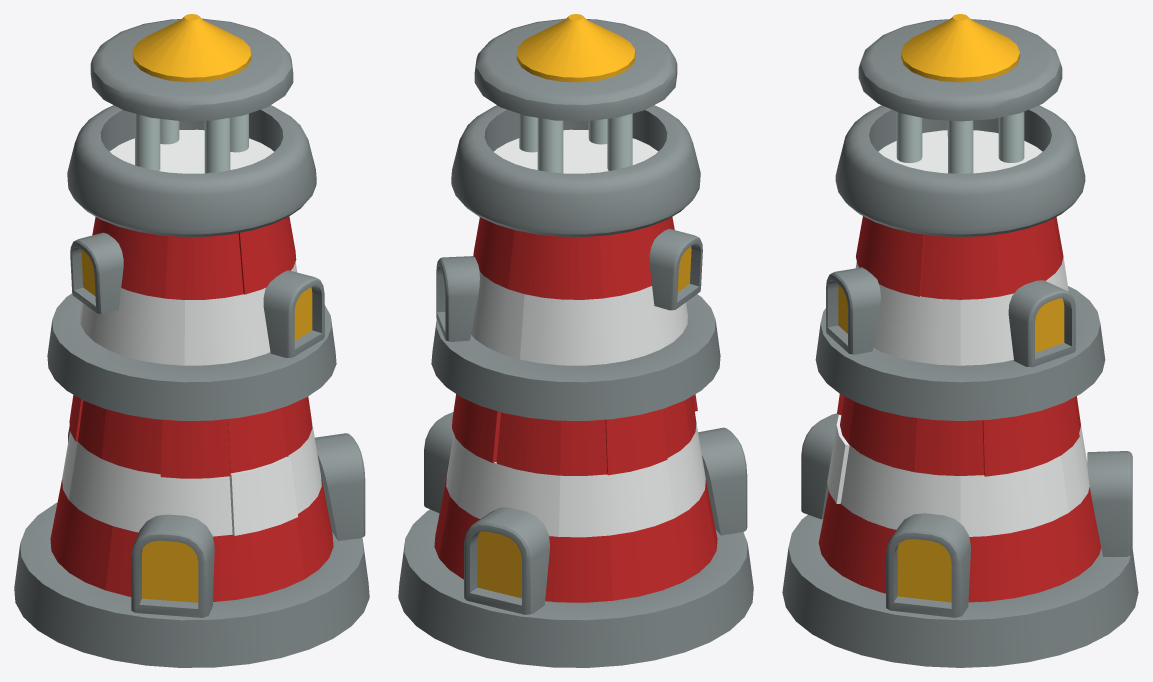
Rendered from level_10.fbx.
3 views of the same model, side by side, from view 1: azimuth 30°, elevation 25°; view 2: azimuth 150°, elevation 25°; view 3: azimuth 270°, elevation 25° (orthographic).
Parts seen in each view (by area): view 1: Cylinder.005, Cylinder.004, Cylinder.053, Cylinder.001, Cylinder.024, Cube.015, Cylinder.003, Cylinder.010, Cylinder.009, Cylinder.046, Cube.019, Cube.016 (+13 smaller); view 2: Cylinder.005, Cylinder.004, Cylinder.053, Cylinder.001, Cylinder.011, Cube.014, Cylinder.002, Cylinder.043, Cylinder.023, Cylinder.045, Cylinder.056, Cube.015 (+15 smaller); view 3: Cylinder.005, Cylinder.004, Cylinder.053, Cylinder.001, Cylinder.006, Cube.016, Cylinder.044, Cylinder.057, Cylinder.008, Cylinder.055, Cube.017, Cylinder.047 (+12 smaller).
Part boxes in pixels (bbox=[...]): Cylinder.005: bbox=[14, 502, 369, 667]; Cylinder.004: bbox=[67, 105, 316, 236]; Cylinder.053: bbox=[90, 14, 293, 173]; Cylinder.001: bbox=[47, 293, 336, 420]; Cylinder.024: bbox=[69, 442, 232, 536]; Cube.015: bbox=[131, 514, 214, 617]; Cylinder.003: bbox=[105, 518, 304, 601]; Cylinder.010: bbox=[80, 288, 184, 365]; Cylinder.009: bbox=[184, 287, 270, 365]; Cylinder.046: bbox=[165, 233, 243, 299]; Cube.019: bbox=[263, 270, 324, 357]; Cube.016: bbox=[315, 433, 365, 540]; Cylinder.005: bbox=[398, 509, 753, 667]; Cylinder.004: bbox=[451, 105, 700, 236]; Cylinder.053: bbox=[474, 14, 677, 173]; Cylinder.001: bbox=[431, 294, 720, 420]; Cylinder.011: bbox=[520, 291, 644, 365]; Cube.014: bbox=[464, 507, 549, 614]; Cylinder.002: bbox=[609, 490, 716, 600]; Cylinder.043: bbox=[559, 460, 673, 537]; Cylinder.023: bbox=[439, 497, 612, 602]; Cylinder.045: bbox=[508, 230, 602, 299]; Cylinder.056: bbox=[459, 450, 560, 536]; Cube.015: bbox=[698, 427, 747, 535]; Cylinder.005: bbox=[782, 515, 1138, 667]; Cylinder.004: bbox=[835, 105, 1085, 236]; Cylinder.053: bbox=[858, 14, 1062, 173]; Cylinder.001: bbox=[815, 286, 1105, 420]; Cylinder.006: bbox=[829, 503, 1060, 602]; Cube.016: bbox=[886, 513, 970, 617]; Cylinder.044: bbox=[960, 455, 1068, 536]; Cylinder.057: bbox=[841, 445, 960, 529]; Cylinder.008: bbox=[873, 284, 960, 365]; Cylinder.055: bbox=[982, 397, 1079, 476]; Cube.017: bbox=[1008, 280, 1075, 367]; Cylinder.047: bbox=[921, 234, 999, 299].
Bounding box in the file's own units: 10.53 × 19 × 10.53.
